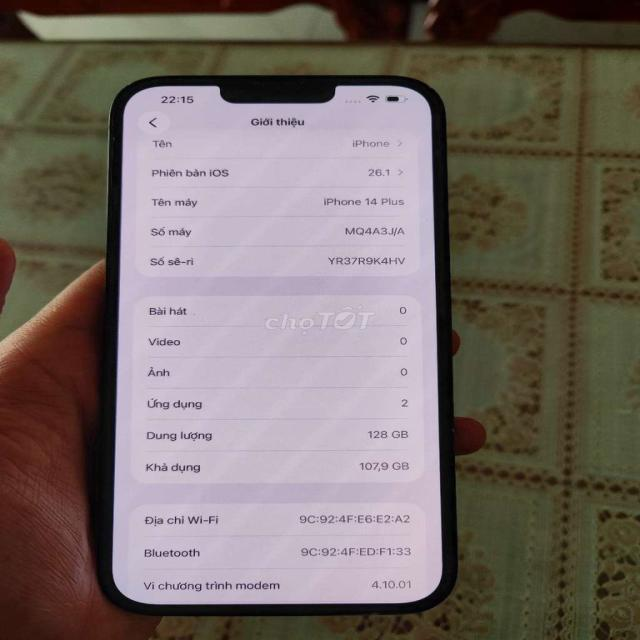gen_14: (89, 65, 468, 620)
